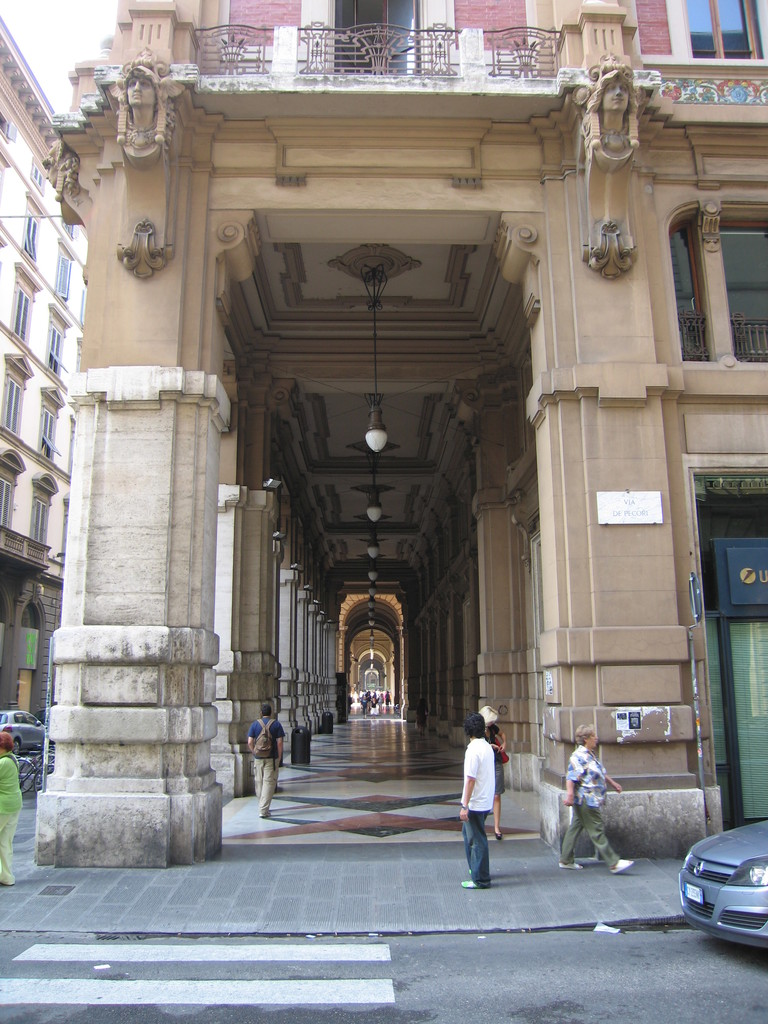Car: (677, 819, 767, 950), (0, 711, 47, 756)
